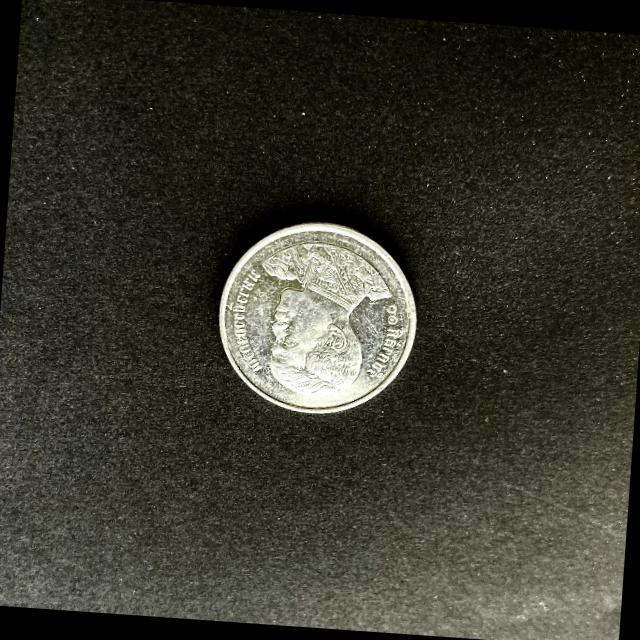1 Bath: (218, 221, 420, 417)
